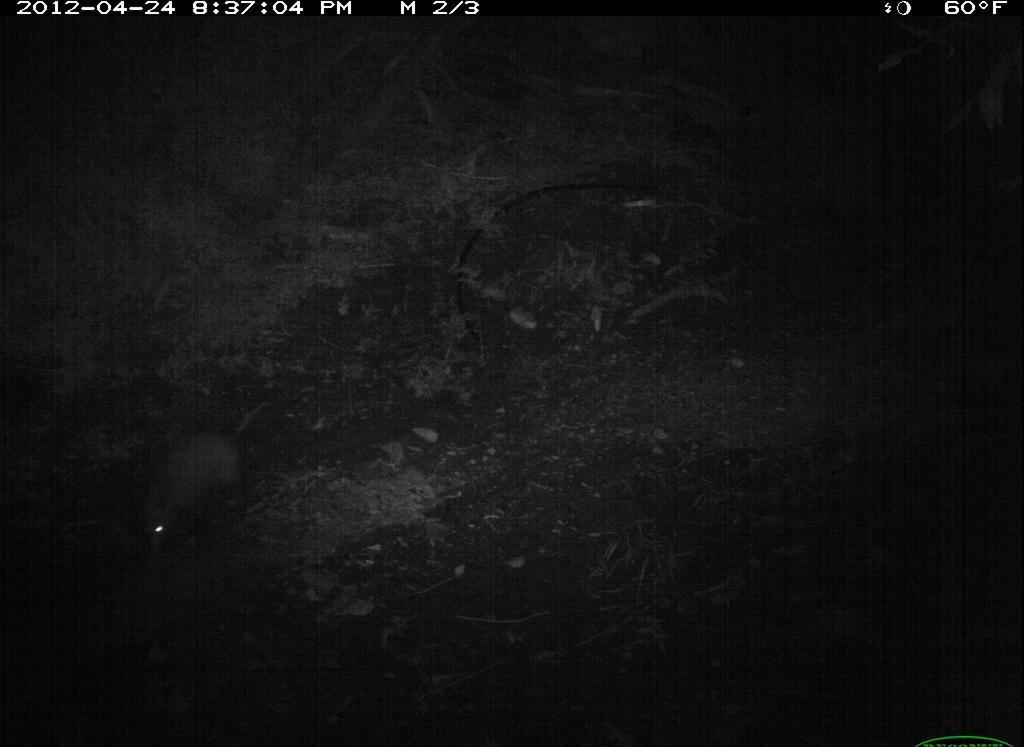opossum: (135, 394, 285, 560)
